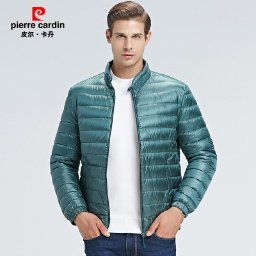face: (104, 1, 150, 68)
